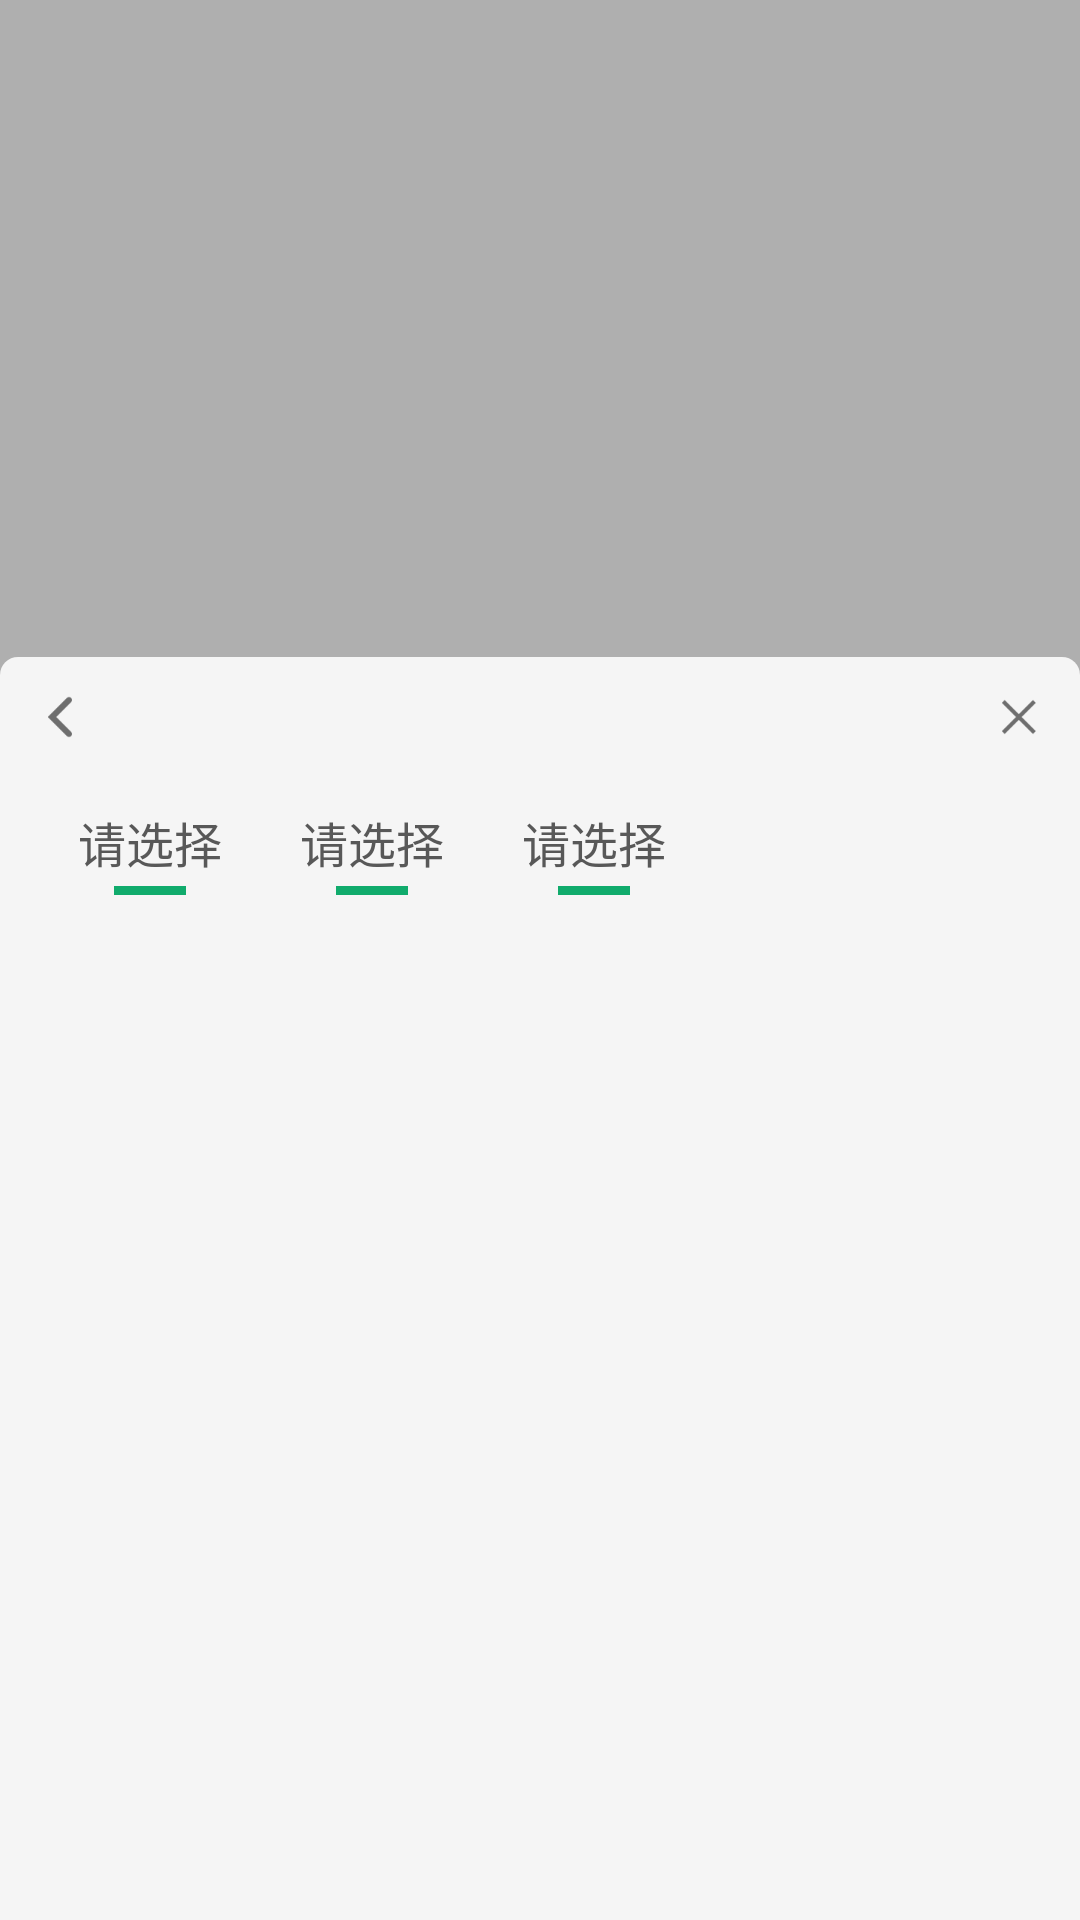

Screen size 1080x1920. Icon name, then its box in pixels as (x1, y1, x2, y2):
back: (48, 697, 72, 737)
close: (1002, 700, 1036, 734)
